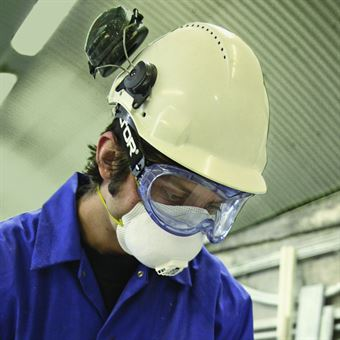epi: (1, 17, 271, 340)
